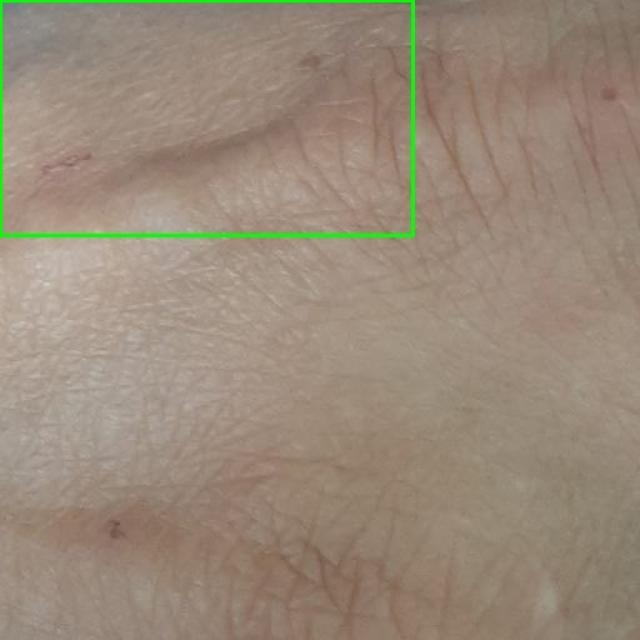Scabies: (0, 0, 414, 236)
